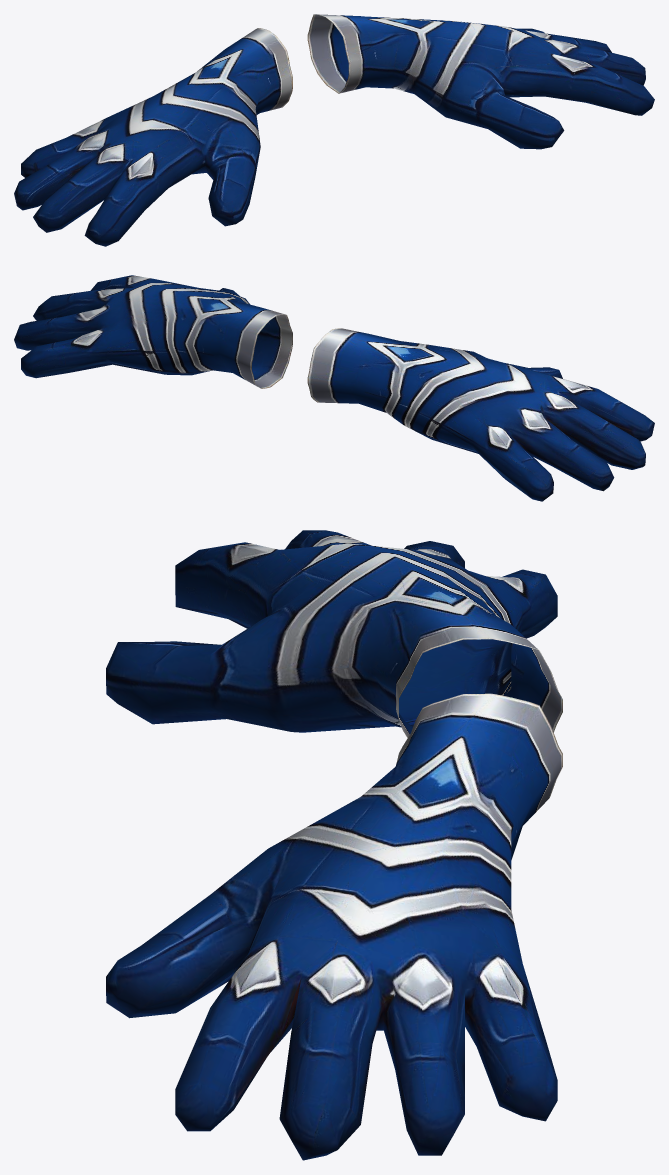
File: BlueRangedGloves.glb
3 views of the same model, one above another, from view 1: azimuth 30°, elevation 25°; view 2: azimuth 150°, elevation 25°; view 3: azimuth 270°, elevation 25° (orthographic). The views are drawn at different scales.
Visible parts, largest first — view 1: Mesh_0; view 2: Mesh_0; view 3: Mesh_0.
Part boxes in pixels (x1,y1,x2,y2): Mesh_0: (14,14,654,246); Mesh_0: (14,275,654,501); Mesh_0: (106,530,562,1160).
Bounding box in the file's own units: 2 × 0.3199 × 0.6521.
1 material, 1 textured.
